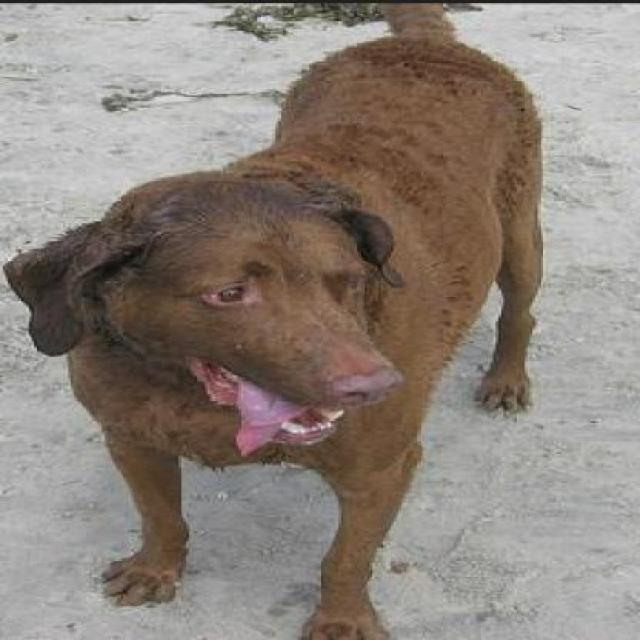Dog: (0, 7, 554, 638)
